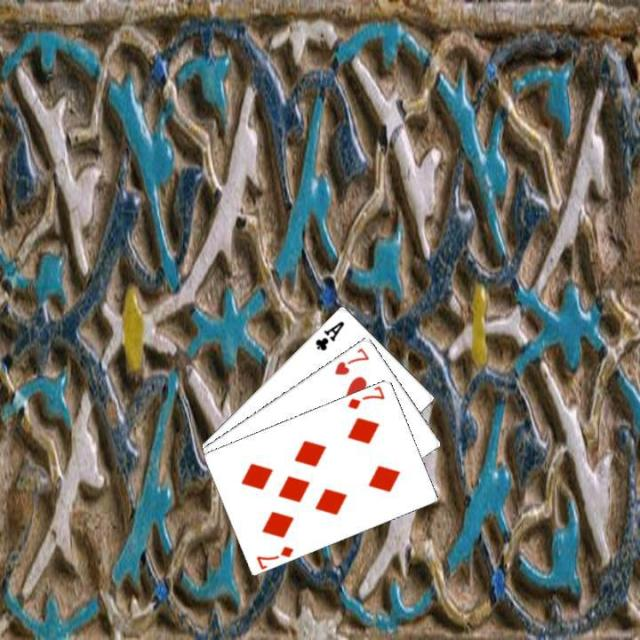7D: (343, 383, 387, 411), (253, 541, 295, 569)
7H: (331, 343, 372, 377)
AC: (311, 316, 347, 352)
